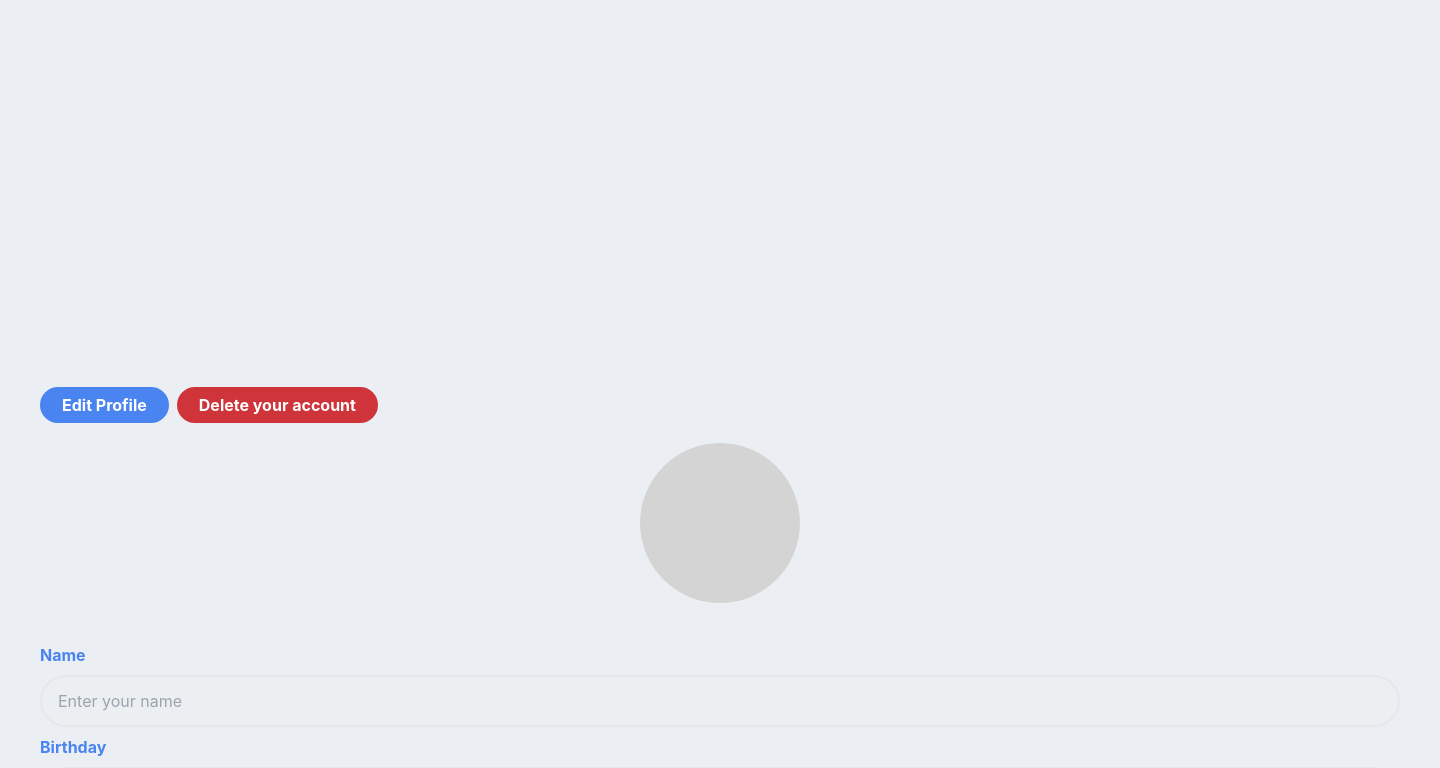
Test: Profile: Profile Options: Delete your account › should render the confirmation modal if clicked
This screenshot has width=1440, height=768.
(page scrolled)
Click the button "Delete your account". click: (277, 405)
box: x1=177 y1=387 x2=378 y2=423
(page scrolled)
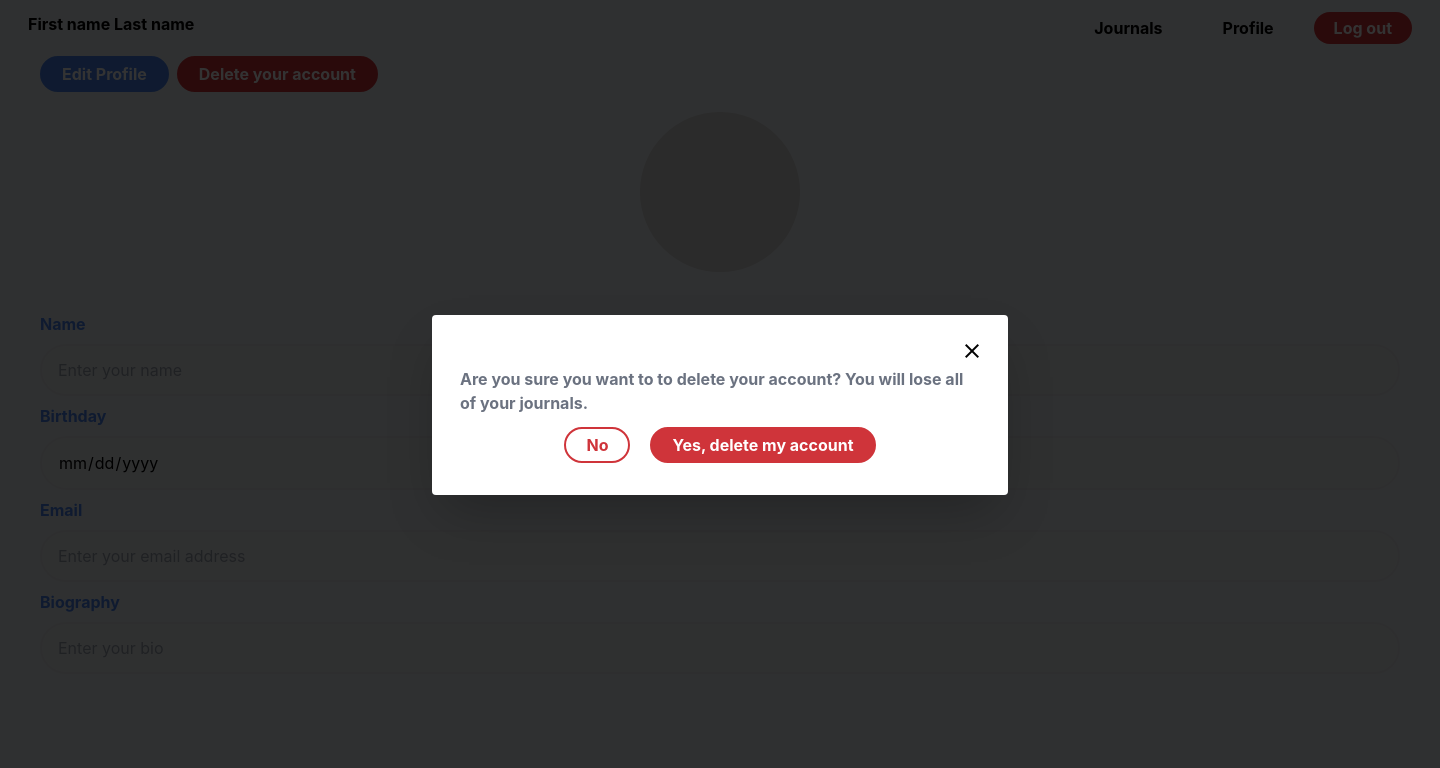
expect the text "Are you sure you want to to delete your account? You will lose all of your journals." is shown: met, box x1=460 y1=369 x2=963 y2=413
